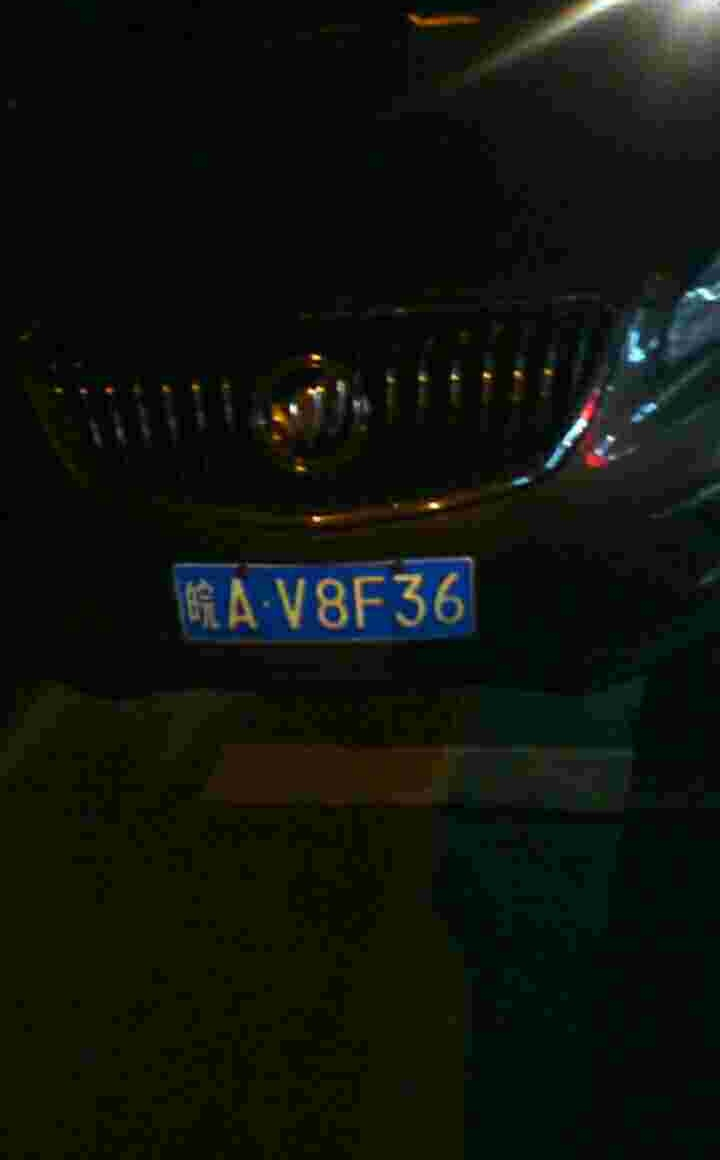license_plate: (176, 562, 498, 654)
